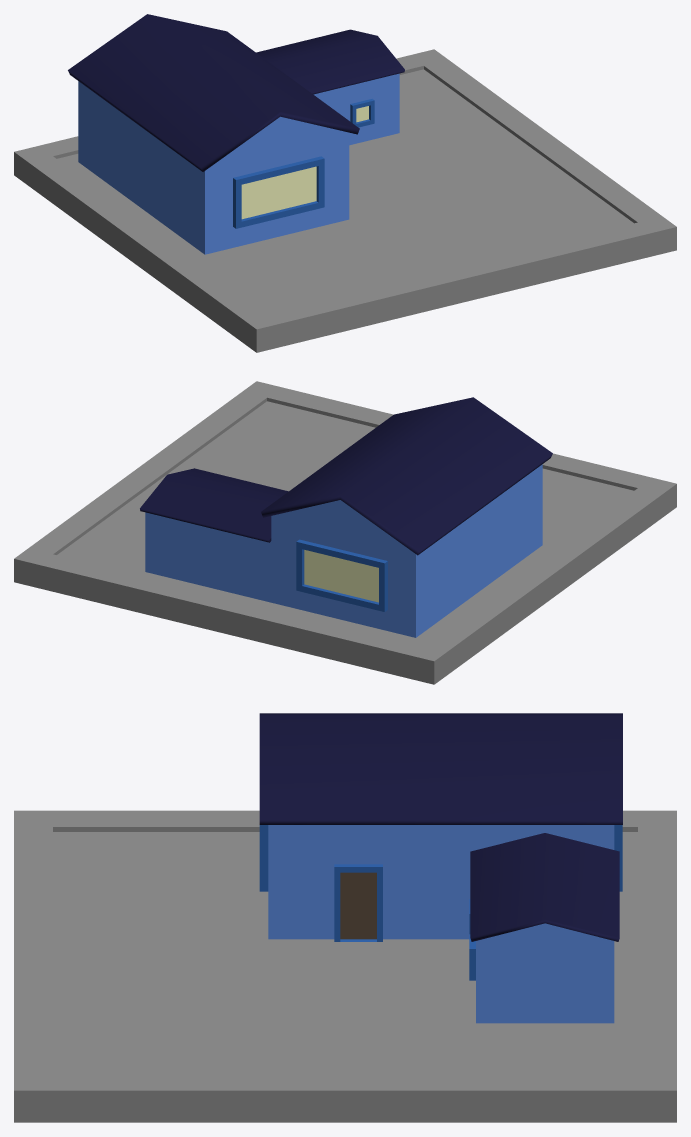
Rendered from House_Model.fbx.
The picture shows the model from 3 angles, top to bottom: view 1: azimuth 30°, elevation 25°; view 2: azimuth 150°, elevation 25°; view 3: azimuth 270°, elevation 25°; orthographic projection. The views are drawn at different scales.
Parts seen in each view (by area): view 1: pCube7, pCube1, pCube2, pCube5; view 2: pCube7, pCube1, pCube3; view 3: pCube7, pCube1, pCube6, pCube2.
Part boxes in pixels (bbox=[...]): pCube7: bbox=[14, 49, 676, 352]; pCube1: bbox=[68, 14, 404, 254]; pCube2: bbox=[233, 156, 324, 228]; pCube5: bbox=[350, 98, 374, 127]; pCube7: bbox=[14, 381, 676, 684]; pCube1: bbox=[140, 397, 552, 637]; pCube3: bbox=[296, 539, 387, 611]; pCube7: bbox=[14, 810, 676, 1122]; pCube1: bbox=[259, 713, 622, 1023]; pCube6: bbox=[334, 864, 382, 941]; pCube2: bbox=[259, 825, 268, 891].
Size of the model in its own units: 22.06 by 7.42 by 22.06.
